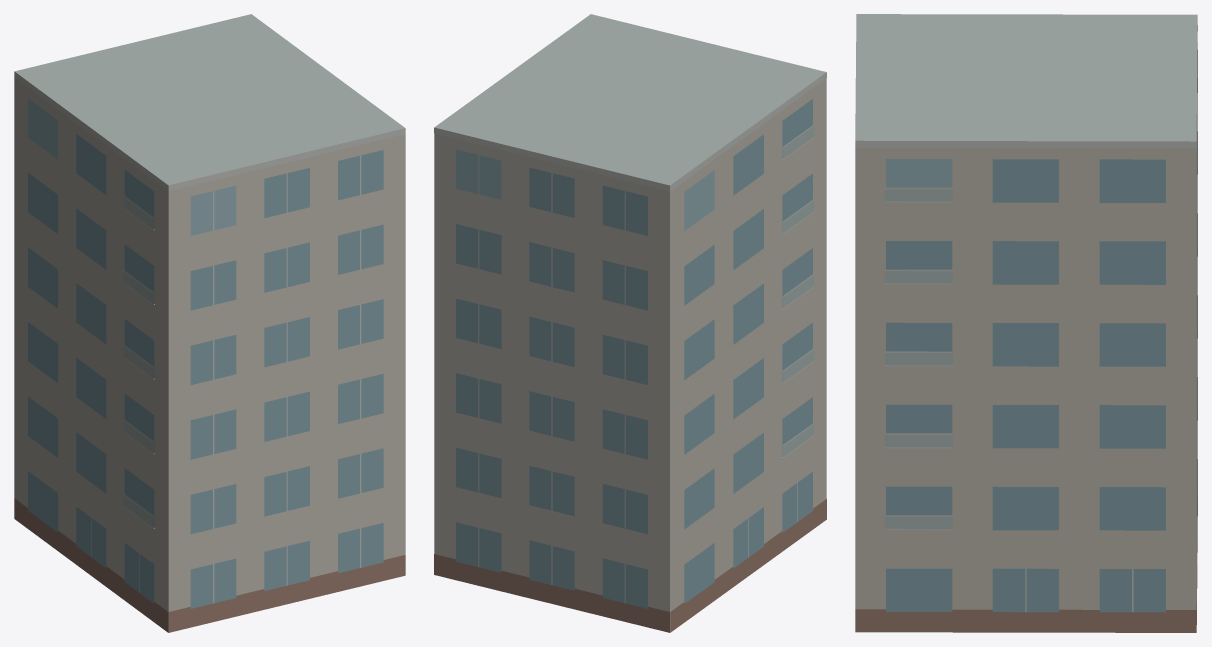
The model's file is survey-upis-32967264.glb.
3 views of the same model, side by side, from view 1: azimuth 30°, elevation 25°; view 2: azimuth 150°, elevation 25°; view 3: azimuth 270°, elevation 25° (orthographic). The views are drawn at different scales.
Parts seen in each view (by area): view 1: survey-upis-32967264.tmp; view 2: survey-upis-32967264.tmp; view 3: survey-upis-32967264.tmp.
Boxes of the visible parts, x1,y1,x2,y2 form: survey-upis-32967264.tmp: [14, 14, 405, 632]; survey-upis-32967264.tmp: [434, 14, 826, 632]; survey-upis-32967264.tmp: [855, 14, 1197, 632].
Size of the model in its own units: 10.22 by 18.3 by 11.57.
